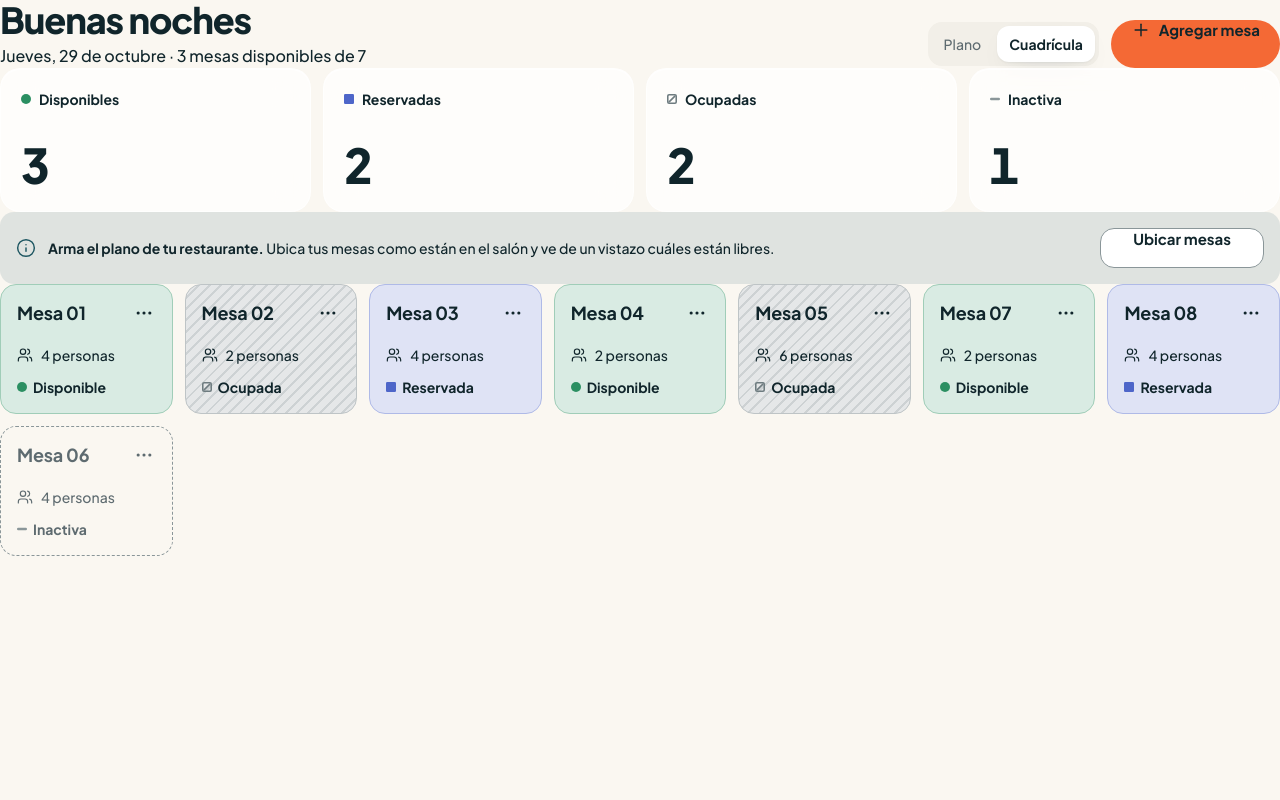
Test case: TablesPage · crear mesa › validates on blur, not on every key
This screenshot has width=1280, height=800.
Expected: the list named "Mesas" is shown, [0,284,1279,556]
Click the button "Agregar mesa": (1195, 44) [1111,20,1279,68]
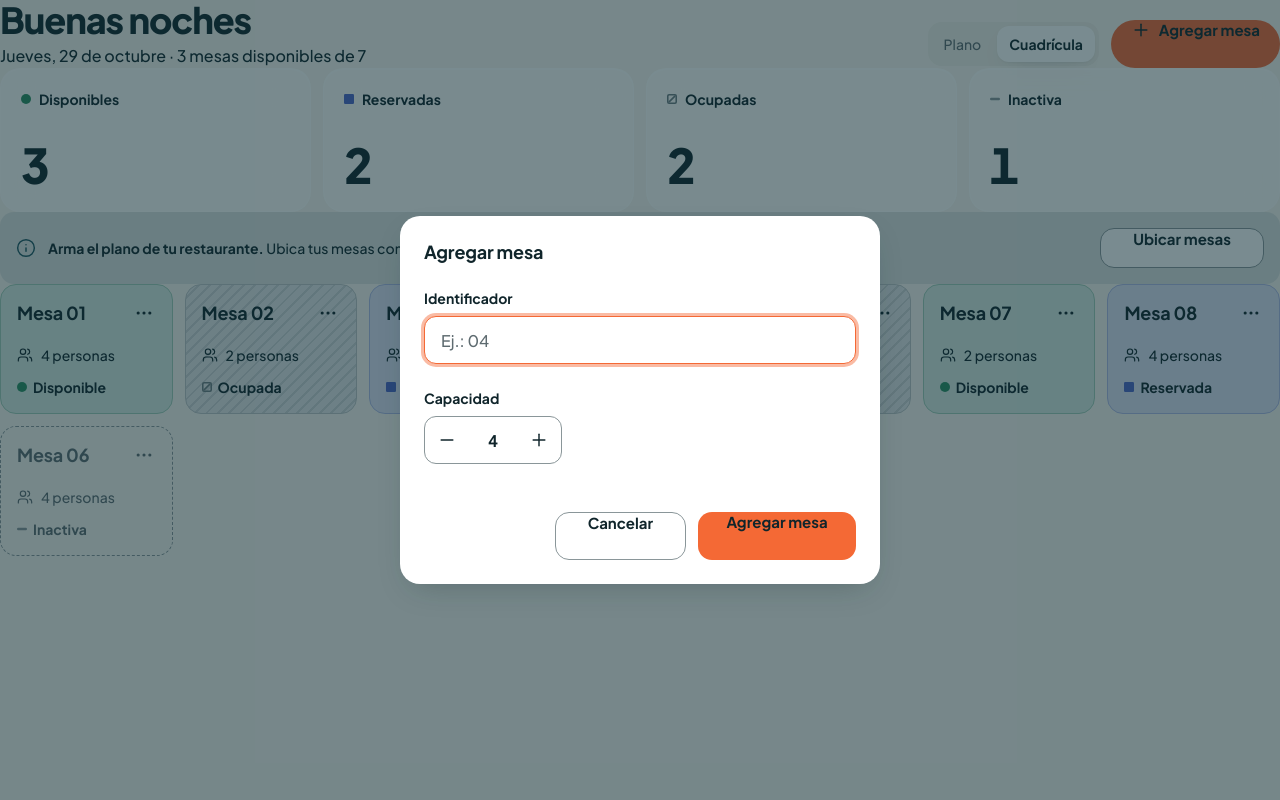
In the field labelled "Identificador": (640, 340) [424,316,856,364], type "12345678901"
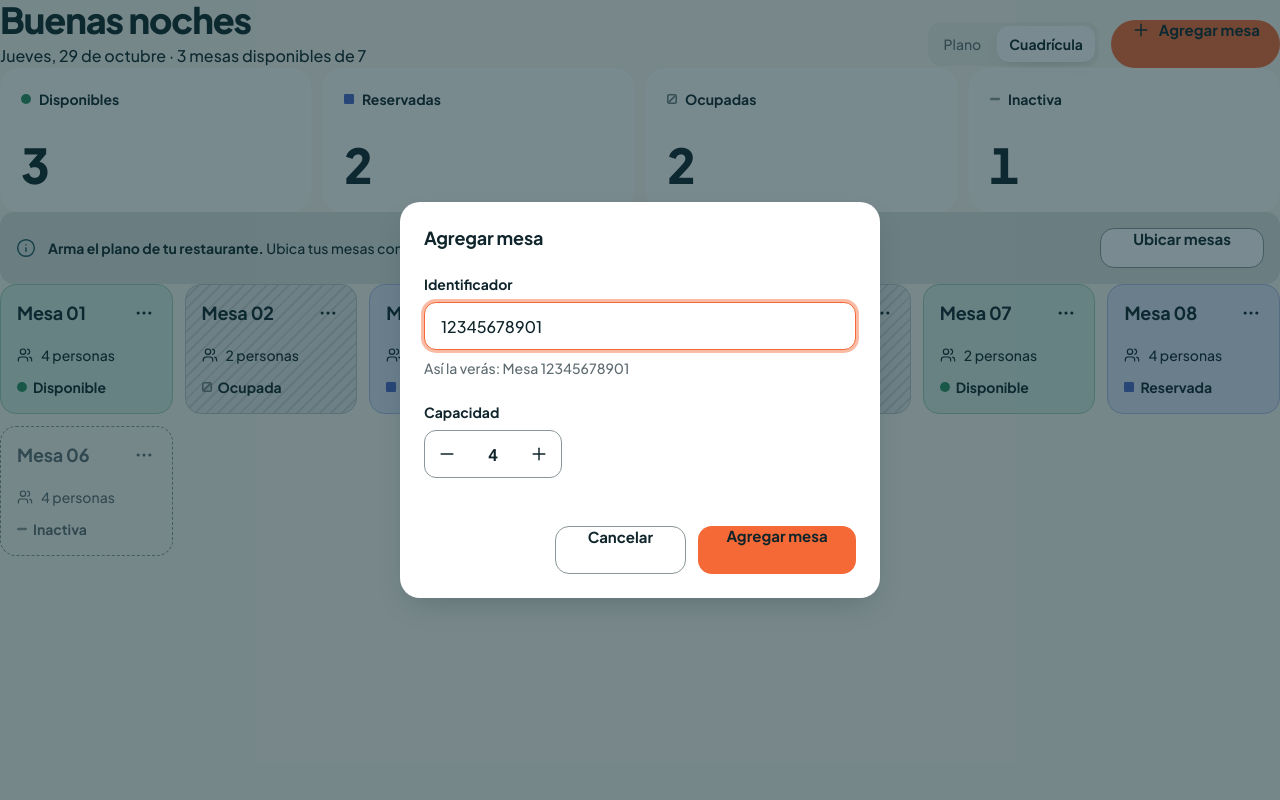
Expected: the text "Usa máximo 10 caracteres" is not shown
Press Tab
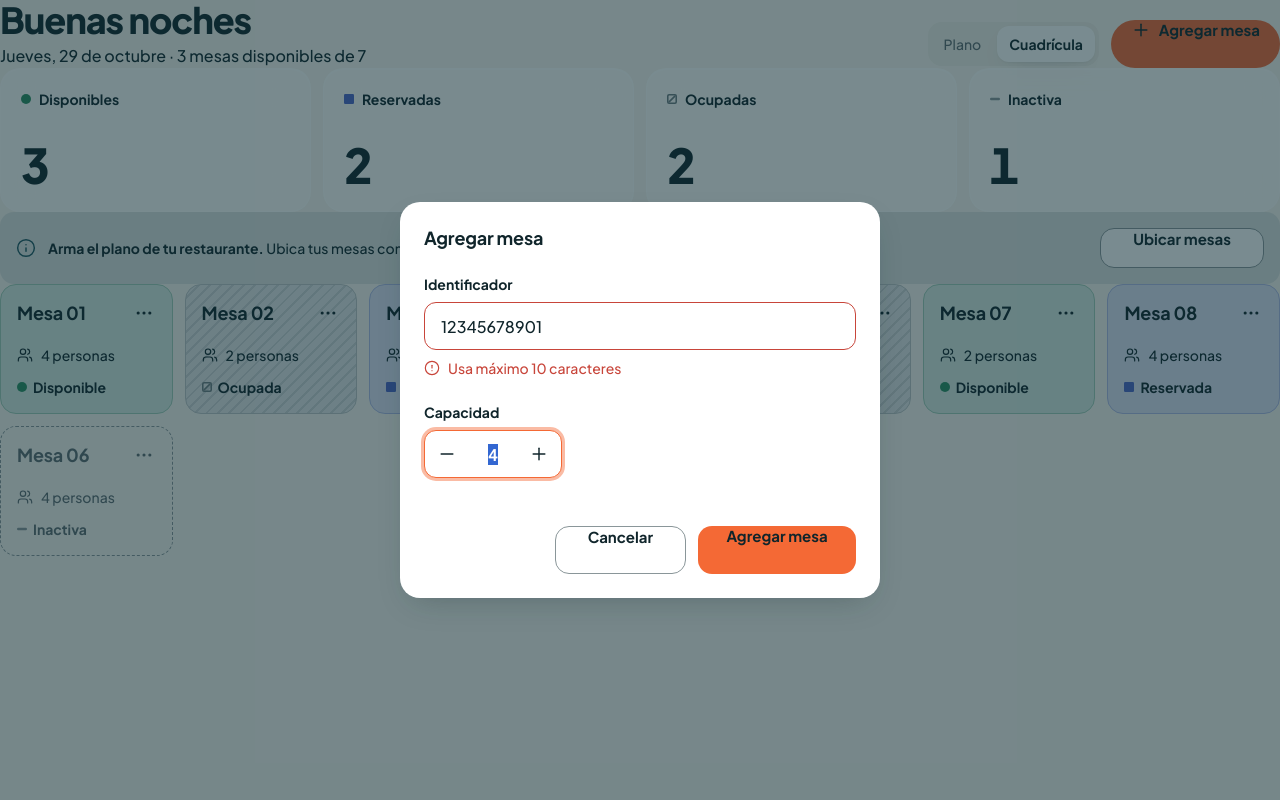
Expected: the text "Usa máximo 10 caracteres" is shown, [424,359,622,377]
